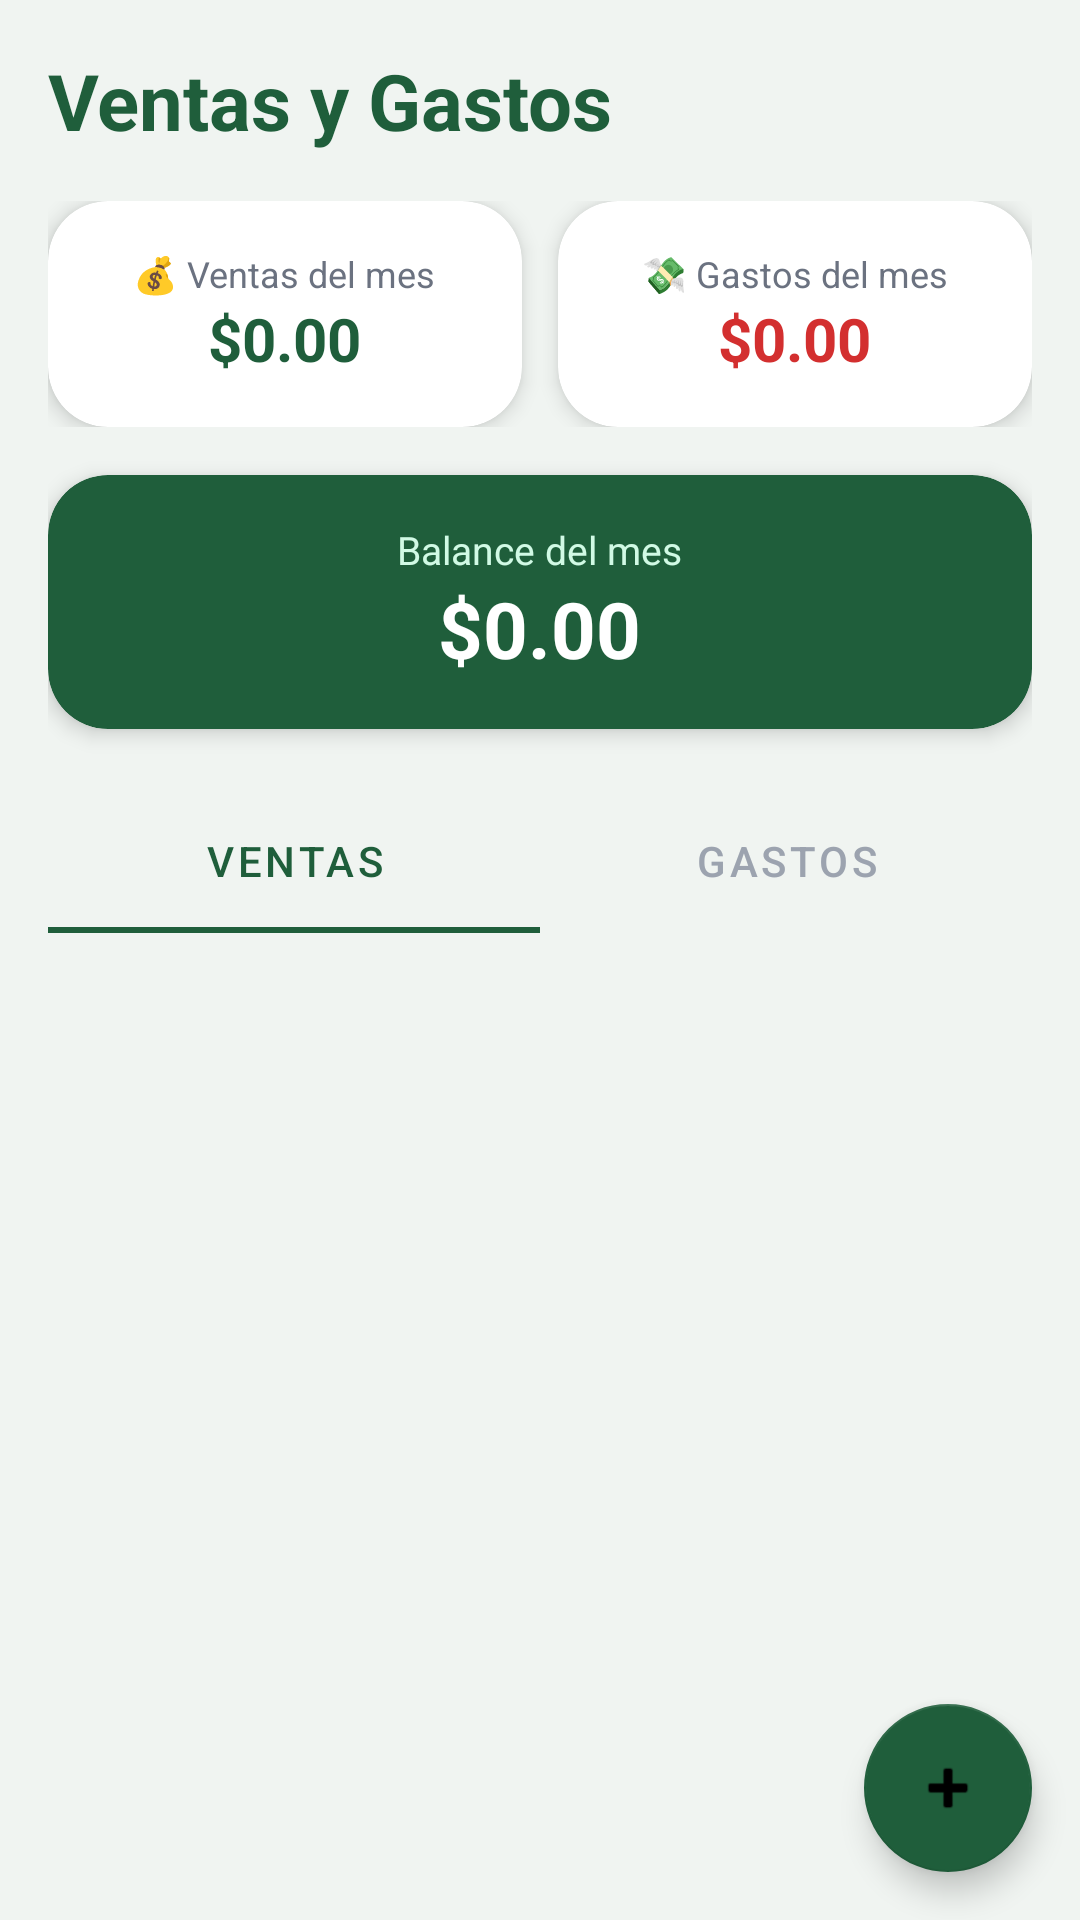

Named icons in this screenshot (1080 x 1920) and their centers, (x=x, y=y):
Agregar: (x=948, y=1788)
